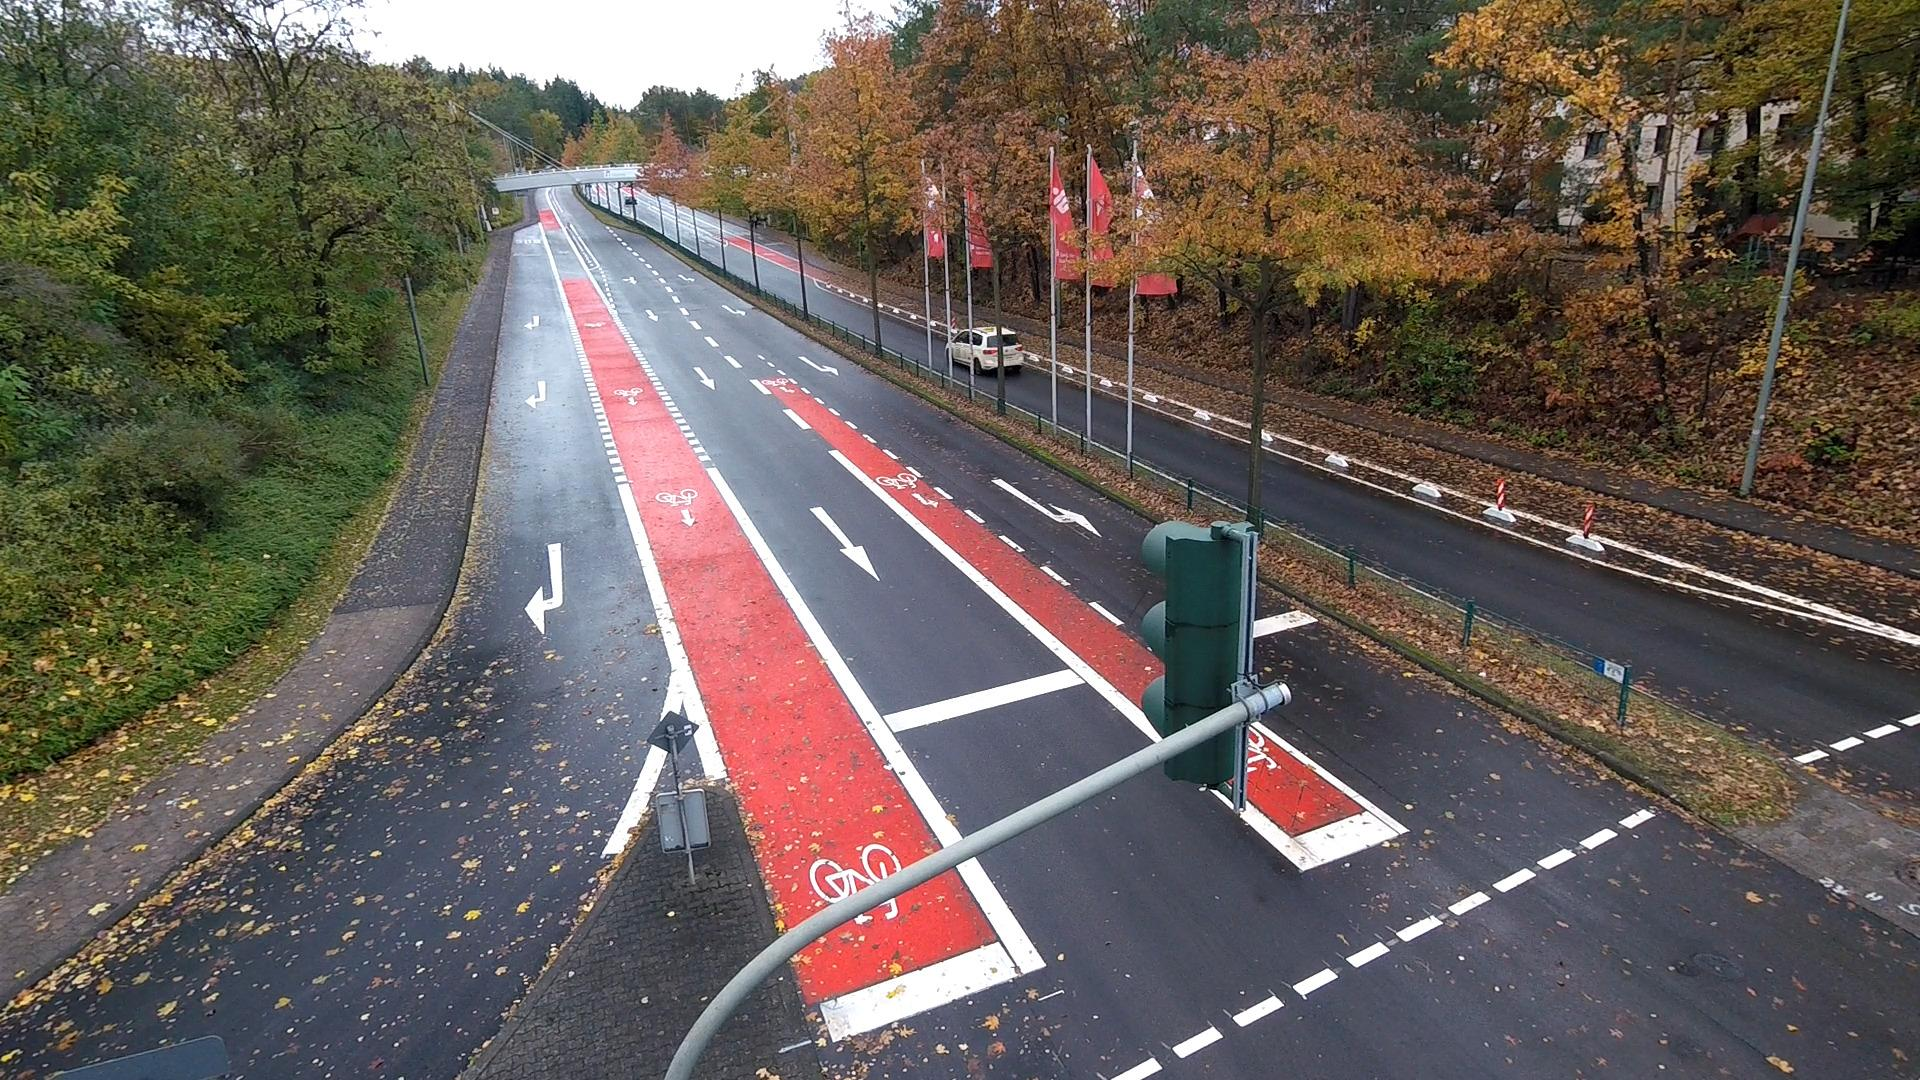bicycle-lane: (533, 188, 962, 940), (722, 353, 1167, 745), (1262, 399, 1919, 638), (787, 854, 1046, 1048), (1233, 725, 1405, 870), (1131, 362, 1255, 426), (802, 260, 873, 298), (1004, 326, 1051, 359), (875, 284, 925, 315), (753, 239, 800, 271), (1091, 350, 1128, 384), (1055, 339, 1086, 370), (722, 228, 752, 251), (695, 215, 721, 238), (632, 187, 659, 207), (1212, 792, 1235, 813), (929, 302, 947, 323), (949, 308, 967, 329), (676, 207, 694, 224), (973, 315, 996, 327), (660, 199, 675, 214), (620, 184, 631, 193)
car: (971, 324, 1000, 375), (1000, 325, 1025, 365), (951, 325, 970, 366), (621, 193, 638, 207), (585, 181, 593, 186)
car-lane: (2, 216, 674, 1080), (815, 573, 1920, 1080), (552, 183, 1168, 841), (1260, 450, 1920, 820), (1131, 400, 1250, 511), (803, 273, 877, 342), (879, 310, 929, 366), (756, 254, 804, 310), (1005, 366, 1051, 423), (1091, 386, 1128, 455), (1056, 374, 1087, 437), (723, 239, 756, 286), (753, 228, 798, 257), (697, 227, 724, 267), (635, 199, 662, 234), (973, 368, 1000, 400), (931, 329, 949, 376), (677, 217, 696, 252), (722, 217, 751, 239), (693, 207, 720, 226), (951, 360, 970, 386), (661, 210, 677, 240), (632, 182, 658, 199), (619, 190, 634, 218), (607, 181, 619, 212), (658, 192, 675, 206), (599, 180, 608, 206), (676, 200, 693, 212), (590, 181, 597, 202), (577, 181, 585, 194), (586, 186, 590, 199)
